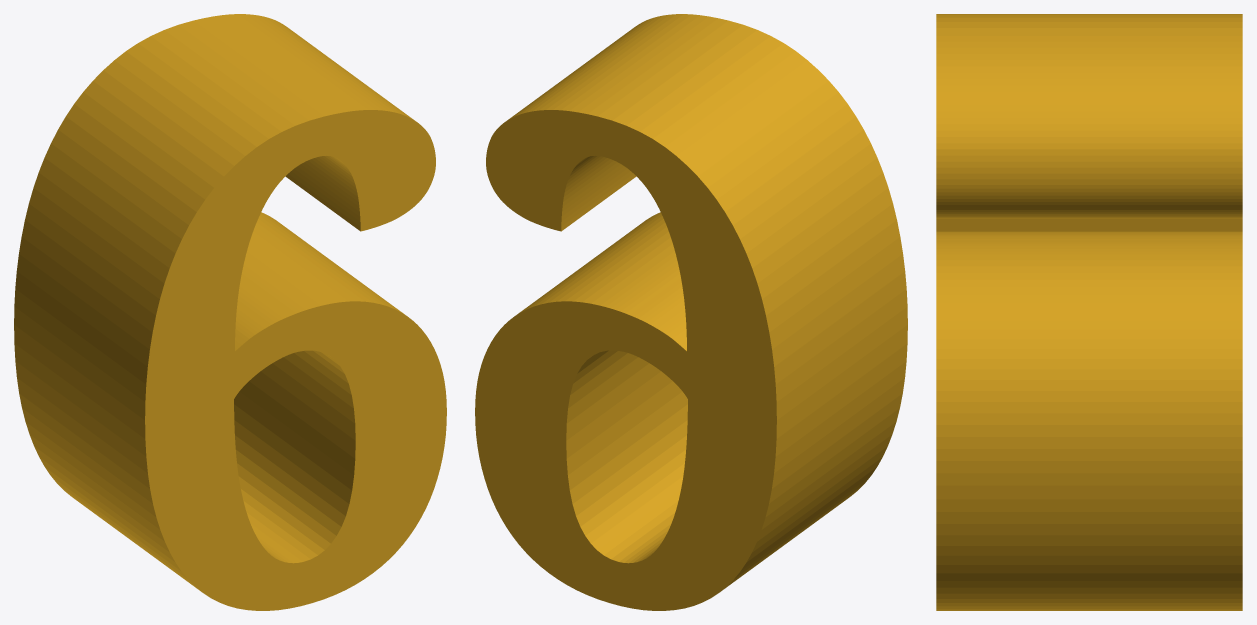
Rendered from tinker.obj.
3 views of the same model, side by side, from view 1: azimuth 30°, elevation 25°; view 2: azimuth 150°, elevation 25°; view 3: azimuth 270°, elevation 25° (orthographic). The views are drawn at different scales.
Visible parts, largest first — view 1: obj_0; view 2: obj_0; view 3: obj_0.
Part boxes in pixels (bbox=[...]): obj_0: bbox=[14, 14, 446, 610]; obj_0: bbox=[475, 14, 907, 610]; obj_0: bbox=[936, 14, 1242, 610].
Size of the model in its own units: 13.3 by 20.38 by 10.
